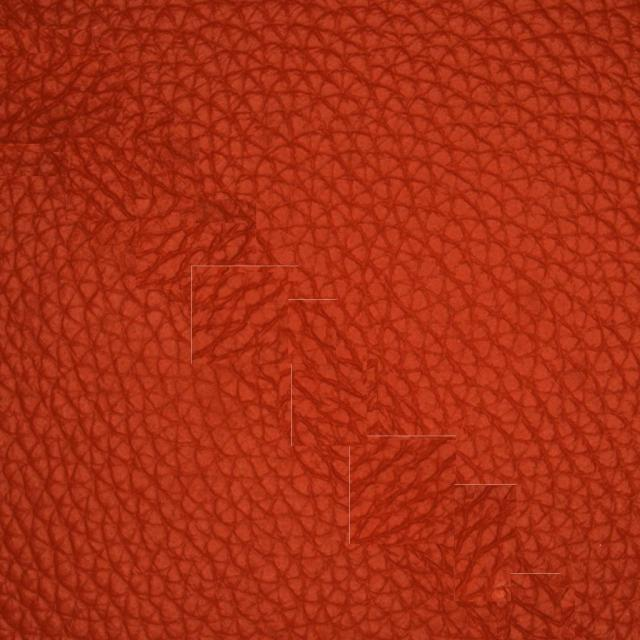Healed Injury: (325, 360, 542, 625), (66, 108, 288, 350)
